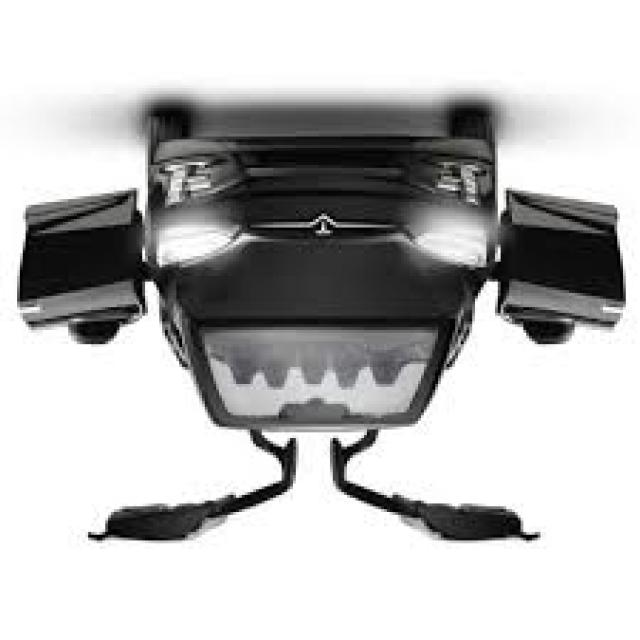Car: (14, 105, 626, 549)
